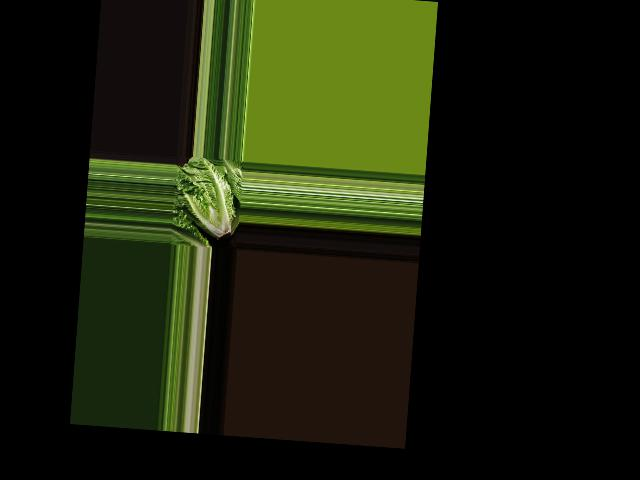lettuce: (175, 157, 244, 245)
